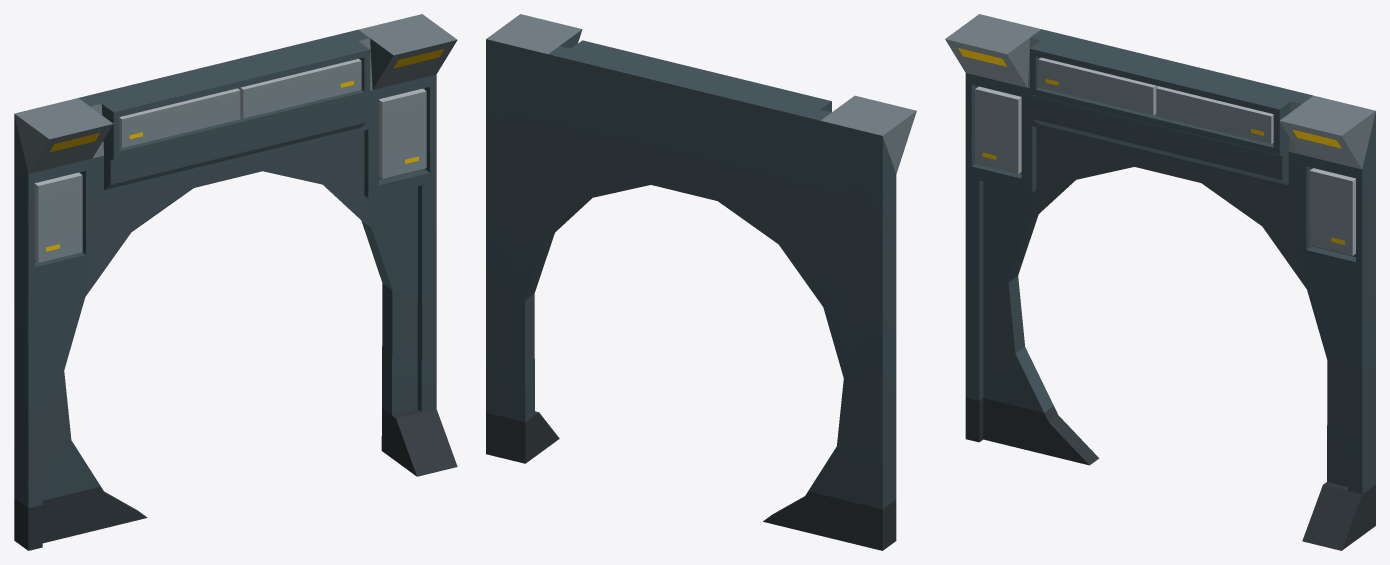
The model's file is Wall_type_C_065.fbx.
3 renders of one model, left to right at view 1: azimuth 30°, elevation 25°; view 2: azimuth 150°, elevation 25°; view 3: azimuth 330°, elevation 25°, orthographic. The views are drawn at different scales.
Parts seen in each view (by area): view 1: Wall_type_C_065; view 2: Wall_type_C_065; view 3: Wall_type_C_065.
Part boxes in pixels (x1=…): Wall_type_C_065: x1=14, y1=14, x2=457, y2=550; Wall_type_C_065: x1=486, y1=14, x2=916, y2=550; Wall_type_C_065: x1=945, y1=14, x2=1375, y2=550.
Bounding box in the file's own units: 400 × 60 × 400.
